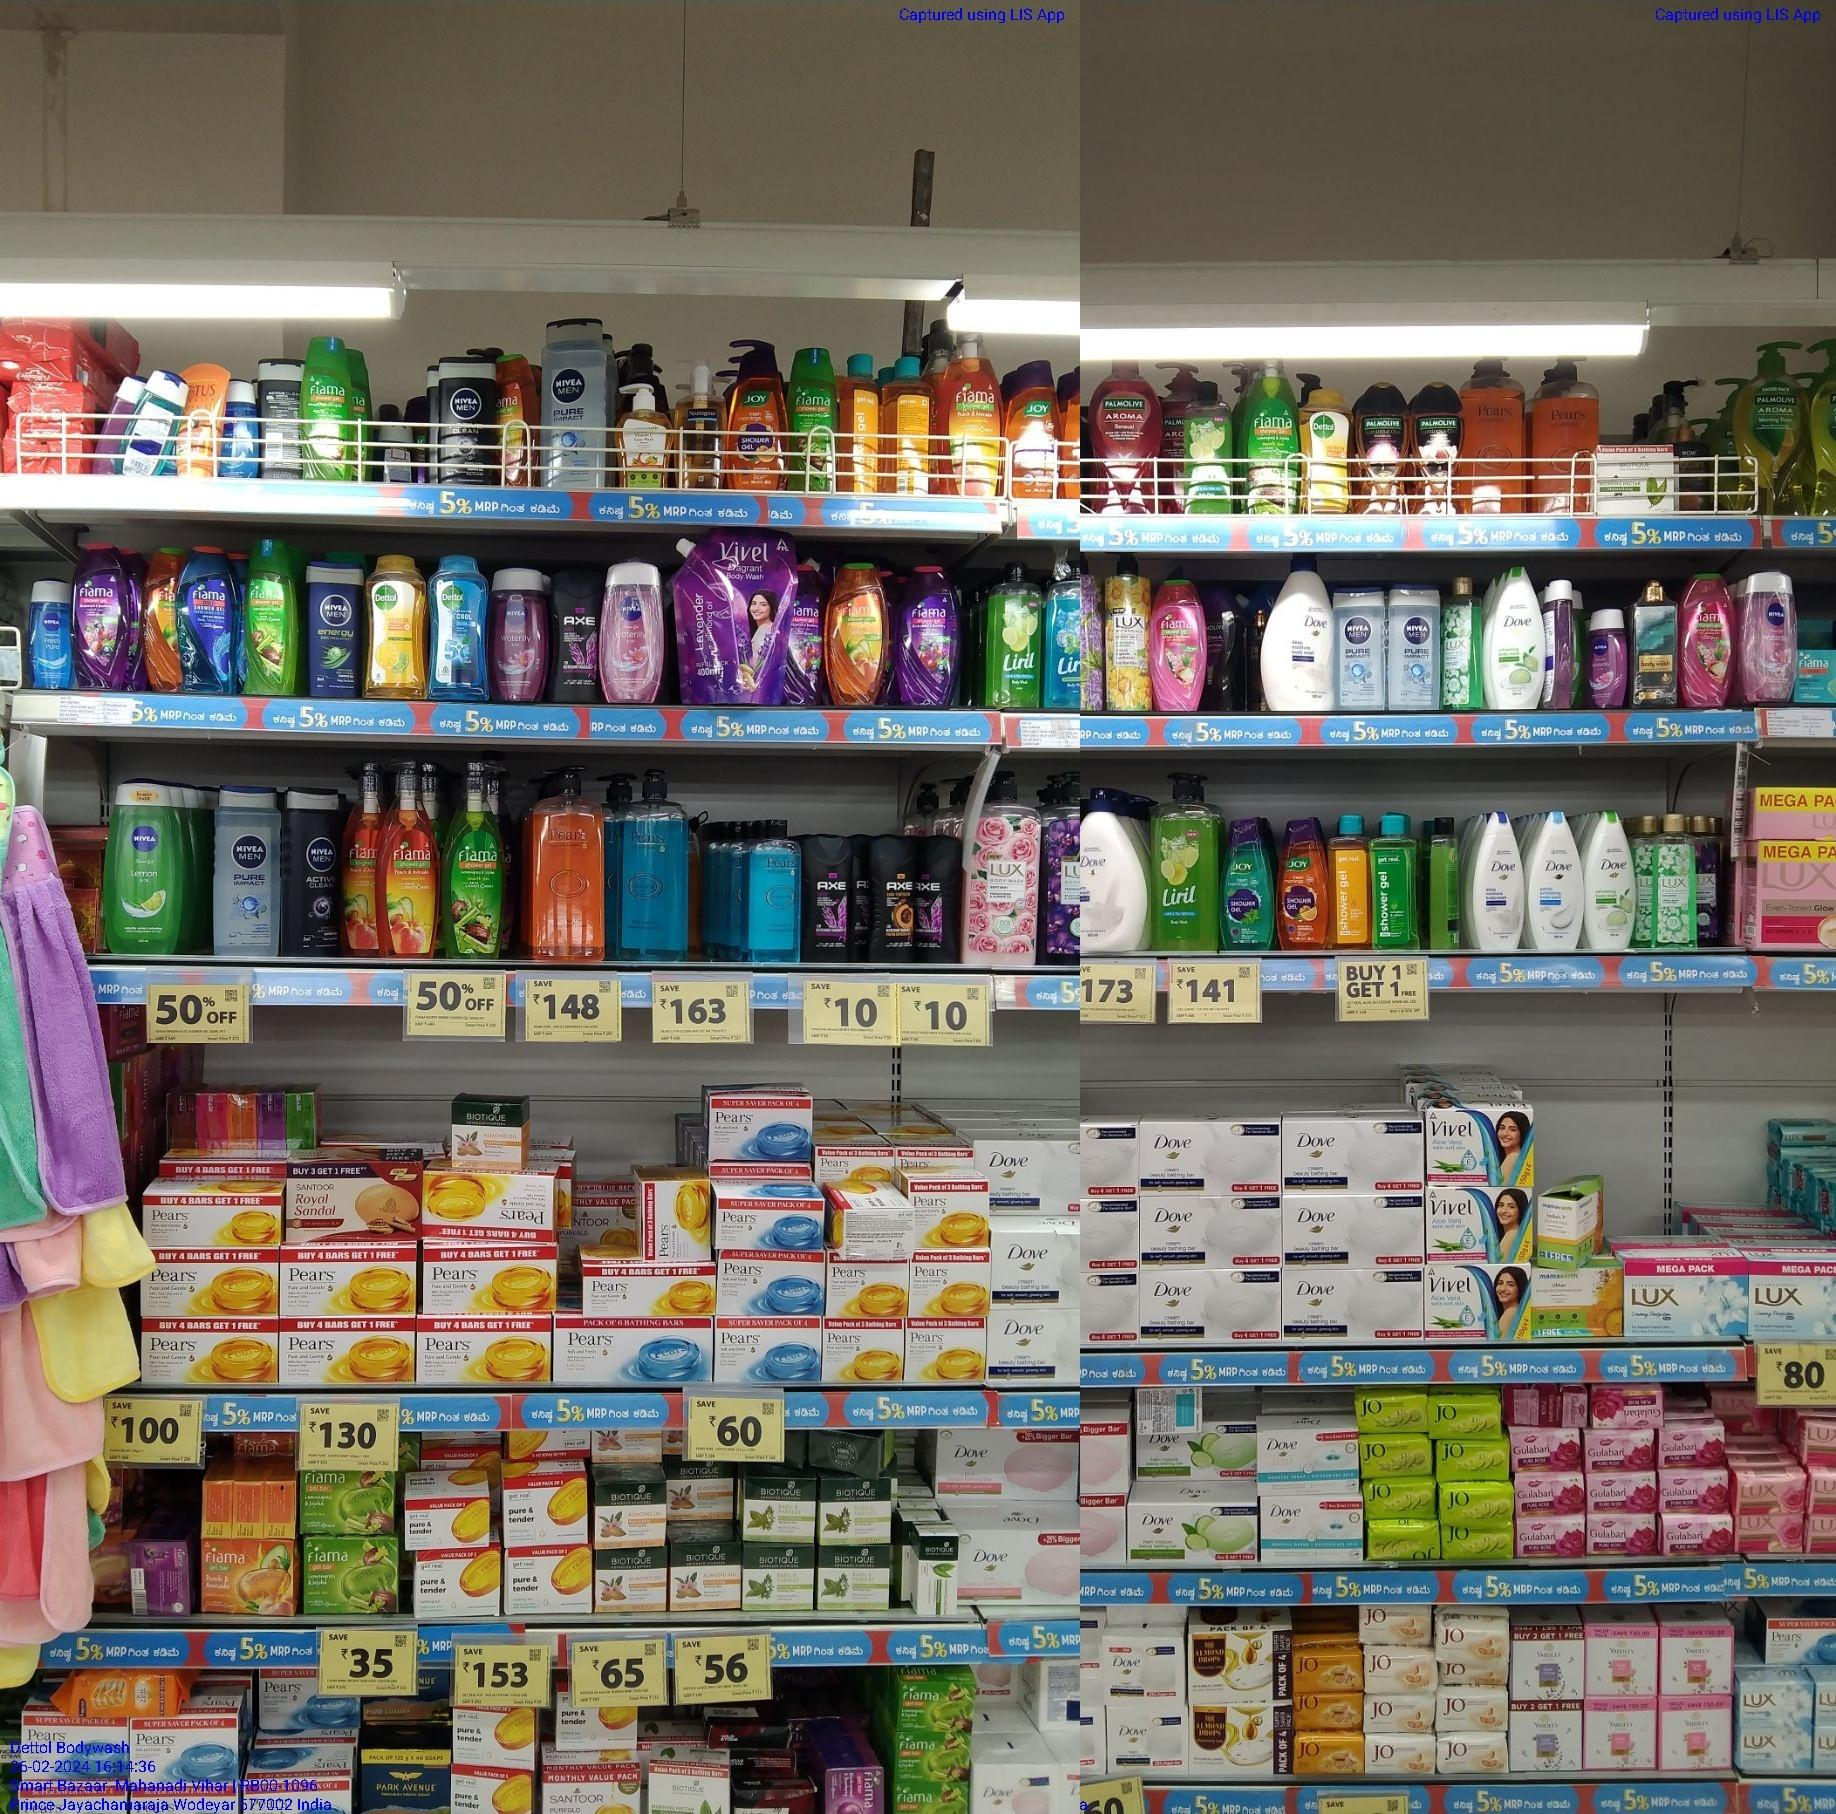Dettol_Bodywash_Refresh: (1301, 389, 1352, 515)
Dove_Deep_Moisture_Body_Wash_250ML: (1470, 814, 1524, 950)
Dove_Gentle_Exfoliating_Body_Wash_250ML: (1530, 811, 1582, 950)
Dove_Refreshing_Body_Wash_250ML: (1583, 811, 1635, 950)
Fiama_Shower_Gel_Peach_and_Avocado_250ML: (497, 354, 538, 485)
Joy_Shower_Gel_Mandarin_and_Lemongrass_250ML: (1007, 359, 1060, 498), (1279, 817, 1331, 950)
Joy_Shower_Gel_Mint_and_Eucalyptus_250ML: (1225, 816, 1273, 950)
Lux_Body_Wash_Skin_Detox_Freesia_Scent_and_Alove_Vera_245ML: (1655, 814, 1696, 945)
Nivea_Shower_Gel_Lemon_and_Oil_250ML: (111, 784, 178, 955)
Palmolive_Luminous_Oils_Invigorating_Macadamia_Oil_With_Peony_250ML: (1356, 380, 1407, 517)
Palmolive_Luminous_Oils_With_White_Orchid_Shower_Gel_250ML: (1411, 384, 1462, 515)
Pears_Pure_Glycerin_and_Mint_Extracts_Body_Wash_250ML: (746, 819, 804, 960)
